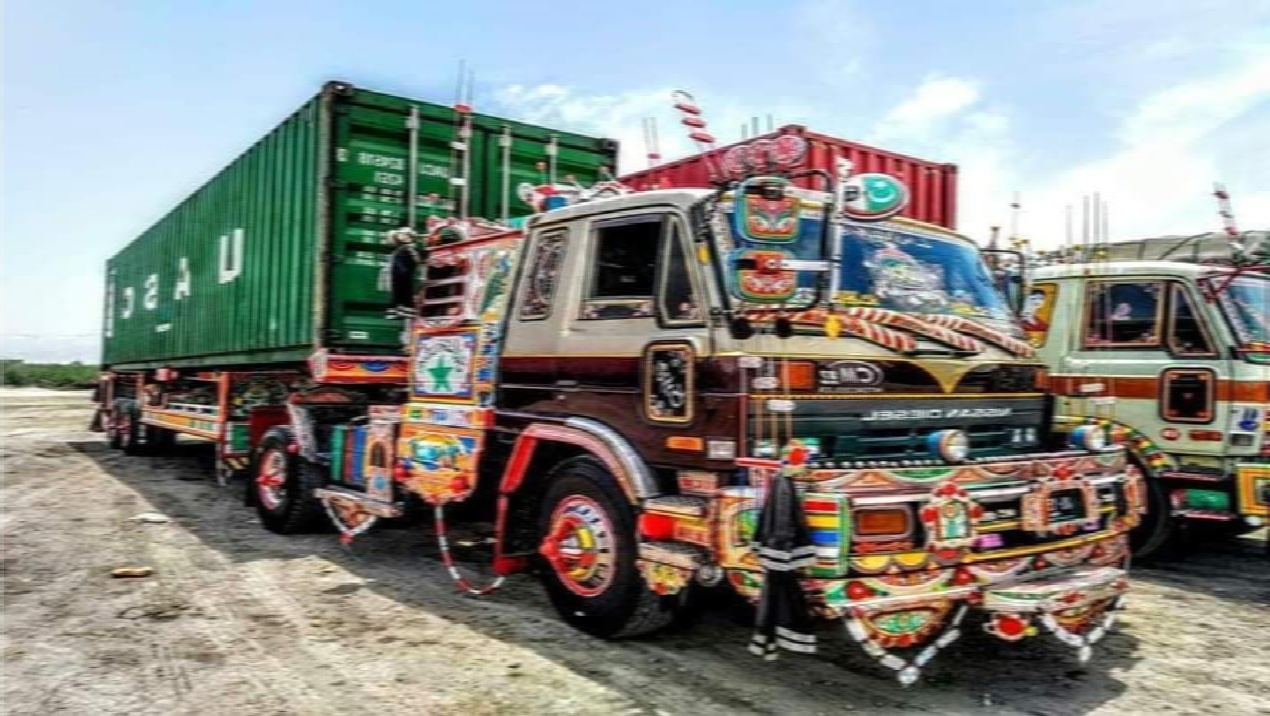truck: (104, 69, 1150, 676), (1016, 235, 1269, 548)
